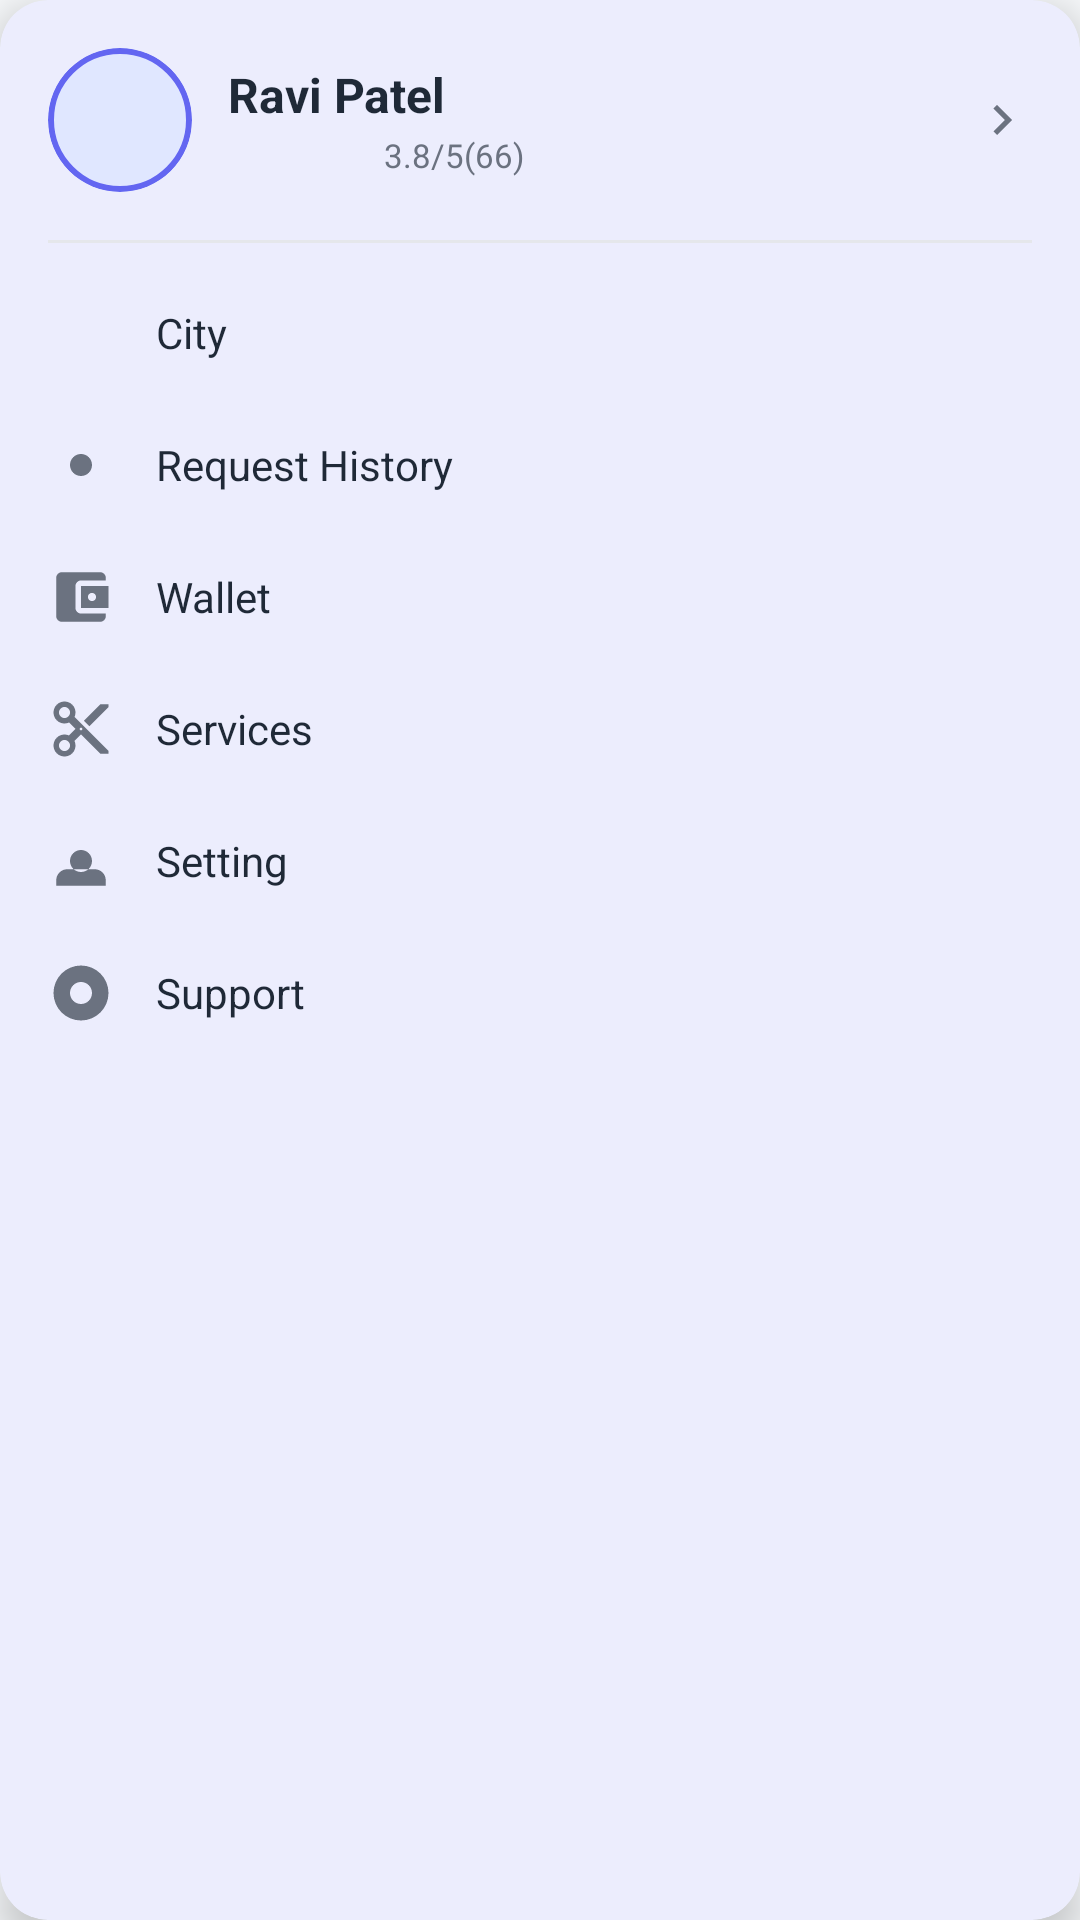

Icons on this 1080x1920 Android screen, each with the point to tap as point (x, y):
chevron right: point (1002, 120)
